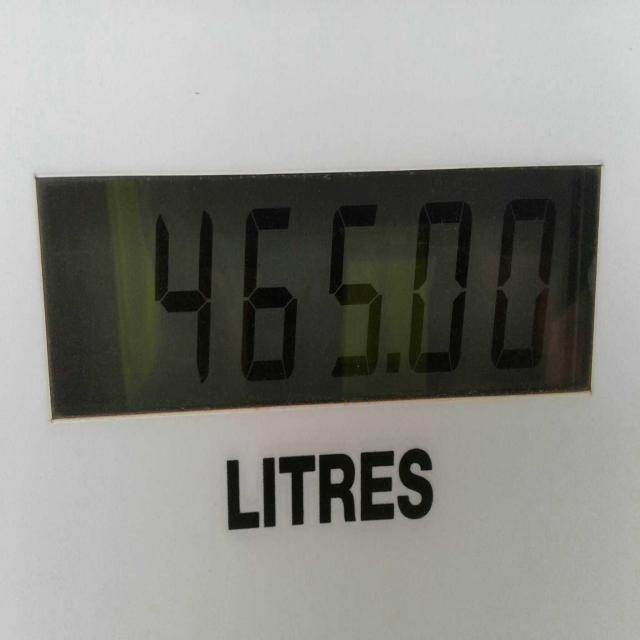.: (482, 201, 571, 403), (405, 191, 477, 382), (376, 342, 416, 412)
1: (137, 193, 232, 405)
5: (325, 200, 386, 380)
6: (233, 194, 318, 400)
